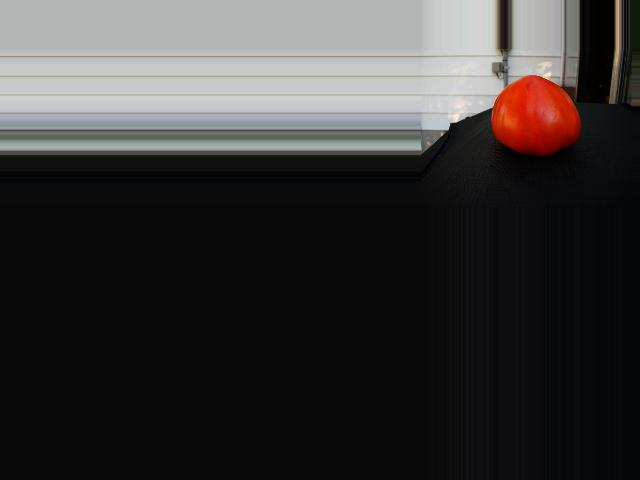tomato: (491, 74, 580, 156)
